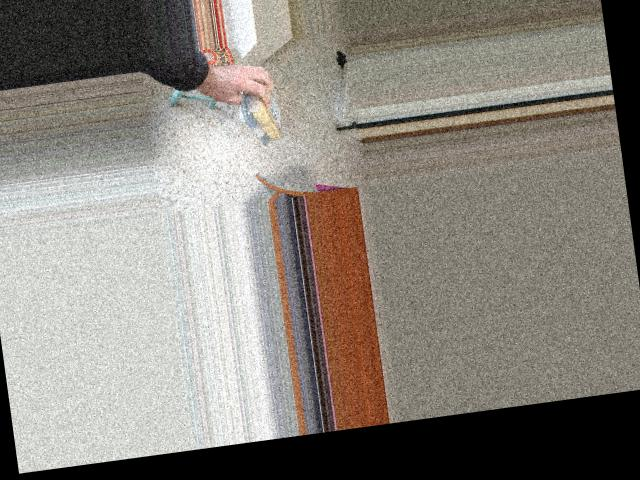cheese: (243, 77, 285, 147)
